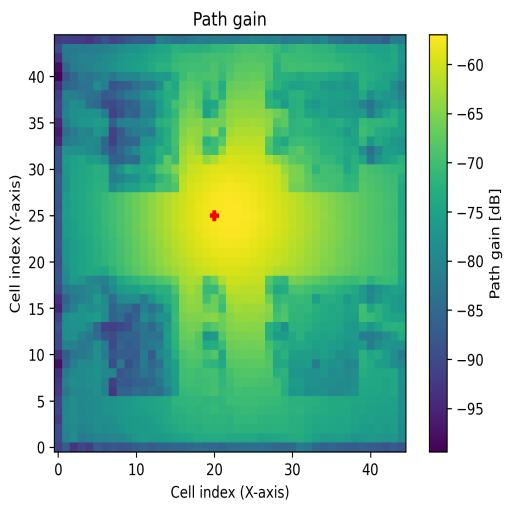Concrete: (290, 80, 360, 191)
Glass: (108, 71, 180, 192)
Metal: (289, 284, 361, 397)
Wood: (102, 276, 179, 396)
